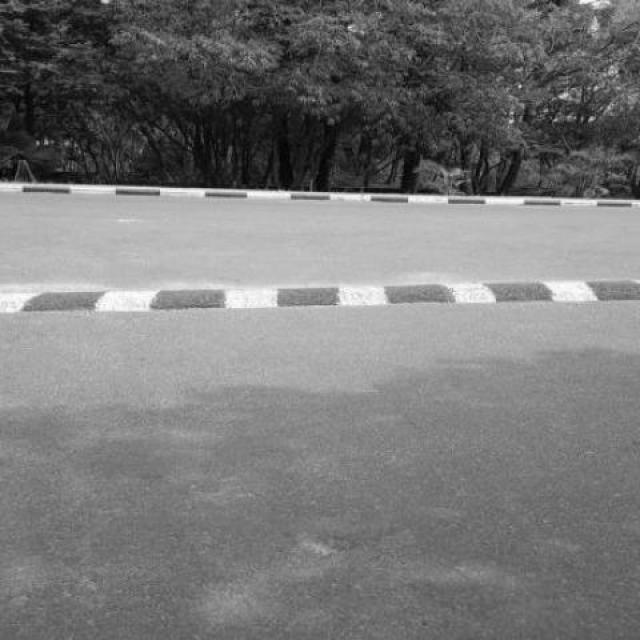Speed Bump: (0, 277, 639, 311)
